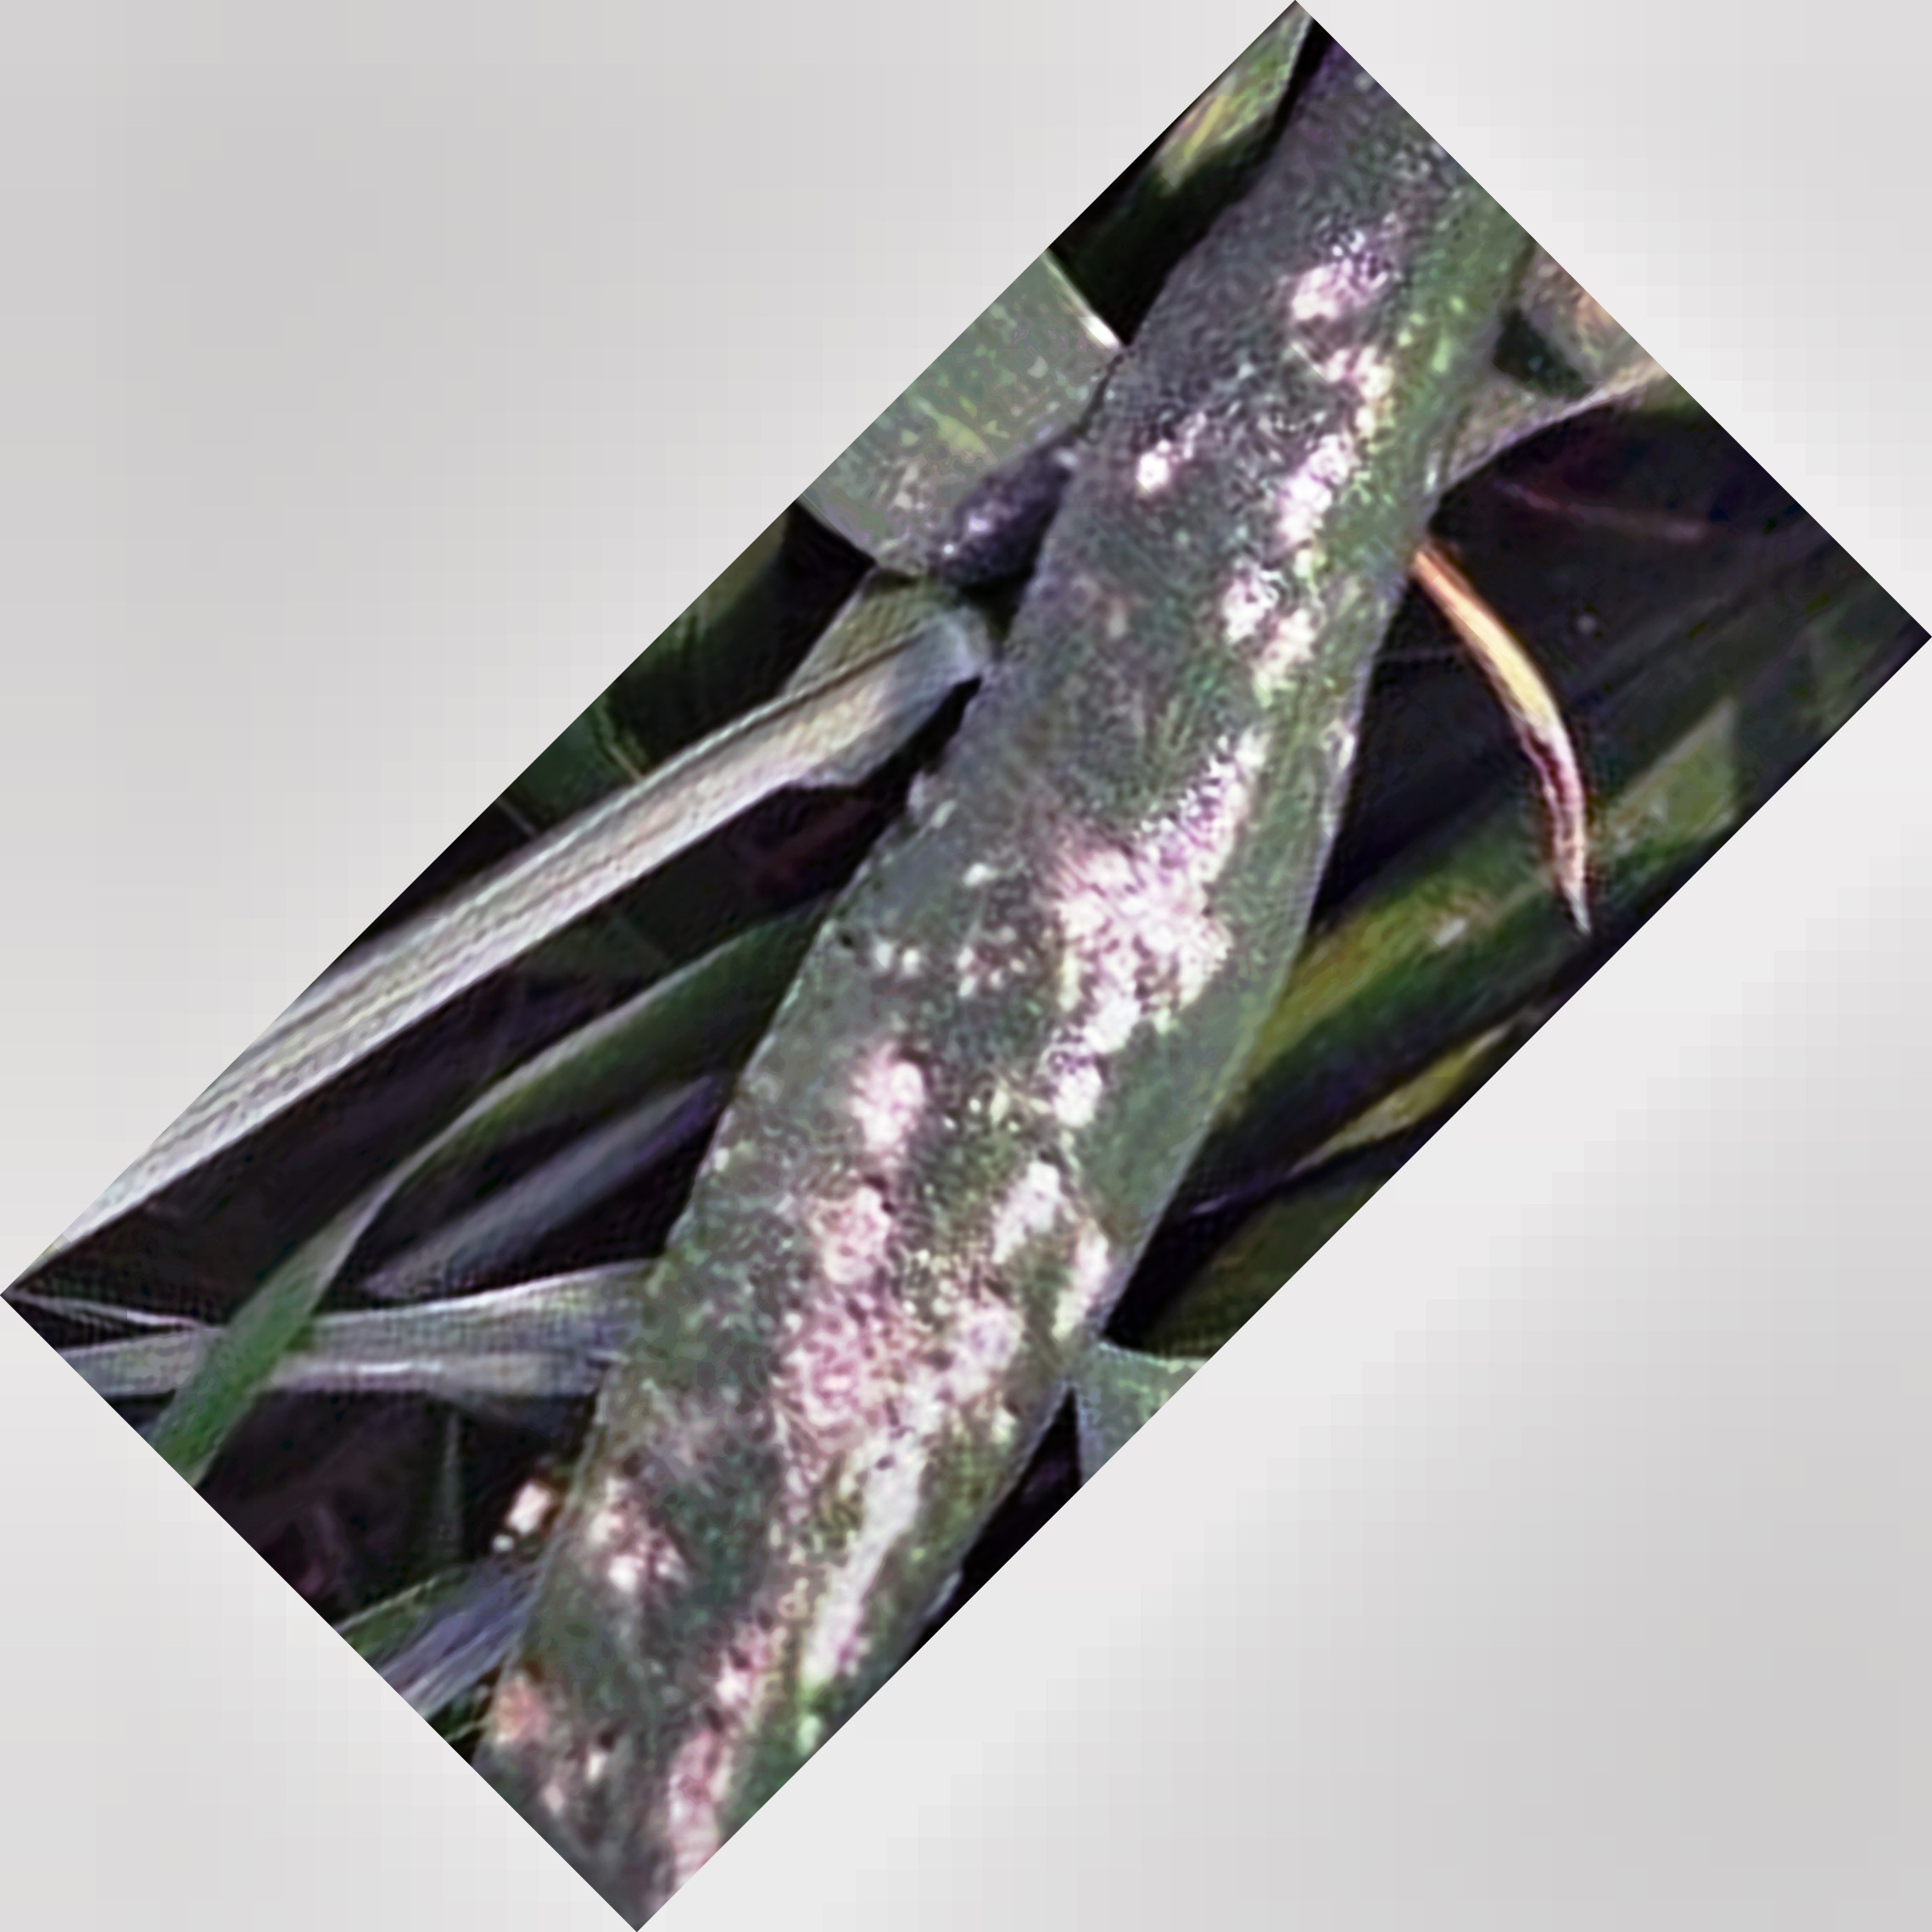Powdery Mildew: (706, 235, 1456, 1569)
